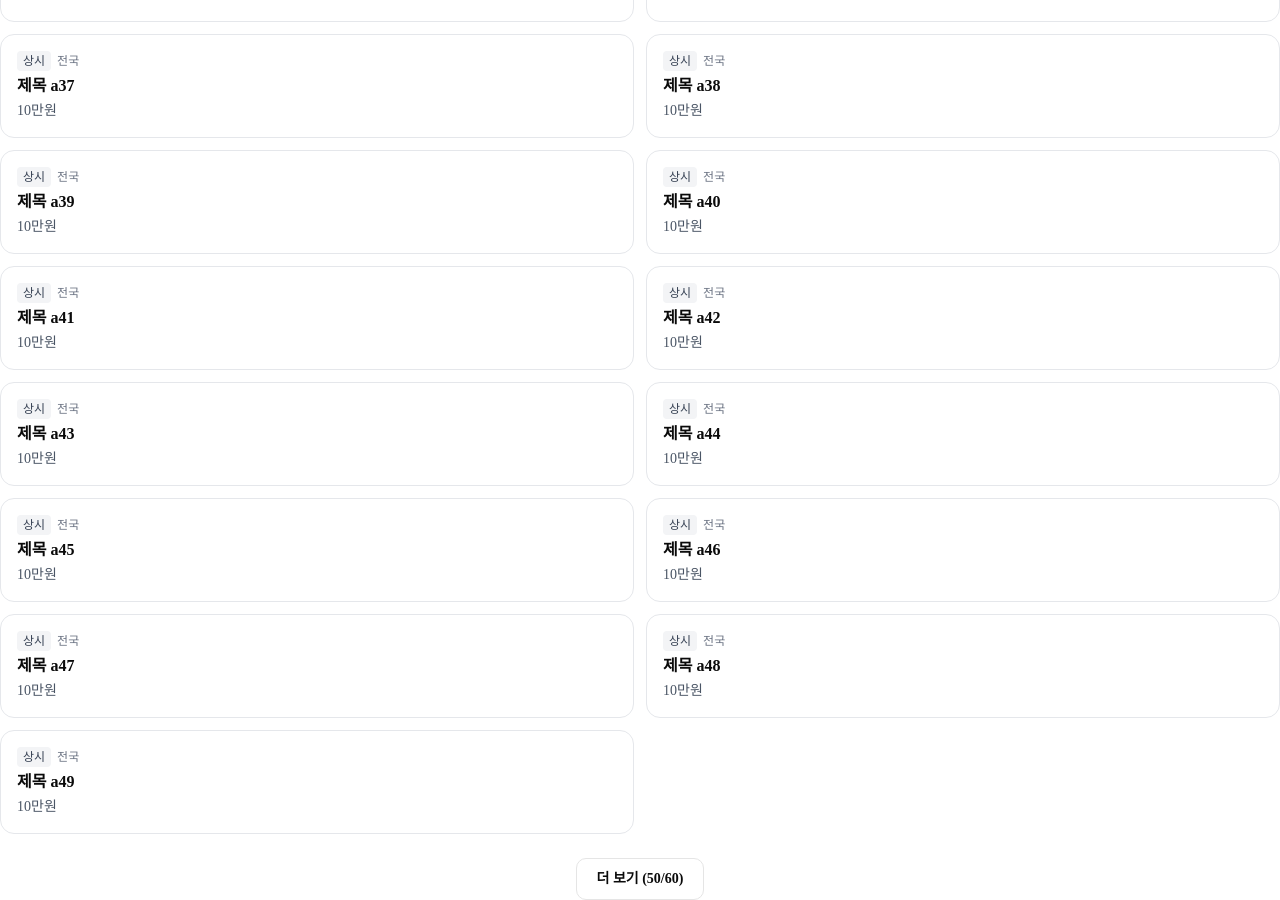
it: DiagnosisResults › 더 보기를 누르면 offset을 늘려 추가 조회
This screenshot has width=1280, height=900.
(page scrolled)
Click the button "더 보기 (50/60)" at x=640, y=879, box [576,858,704,899]
(page scrolled)
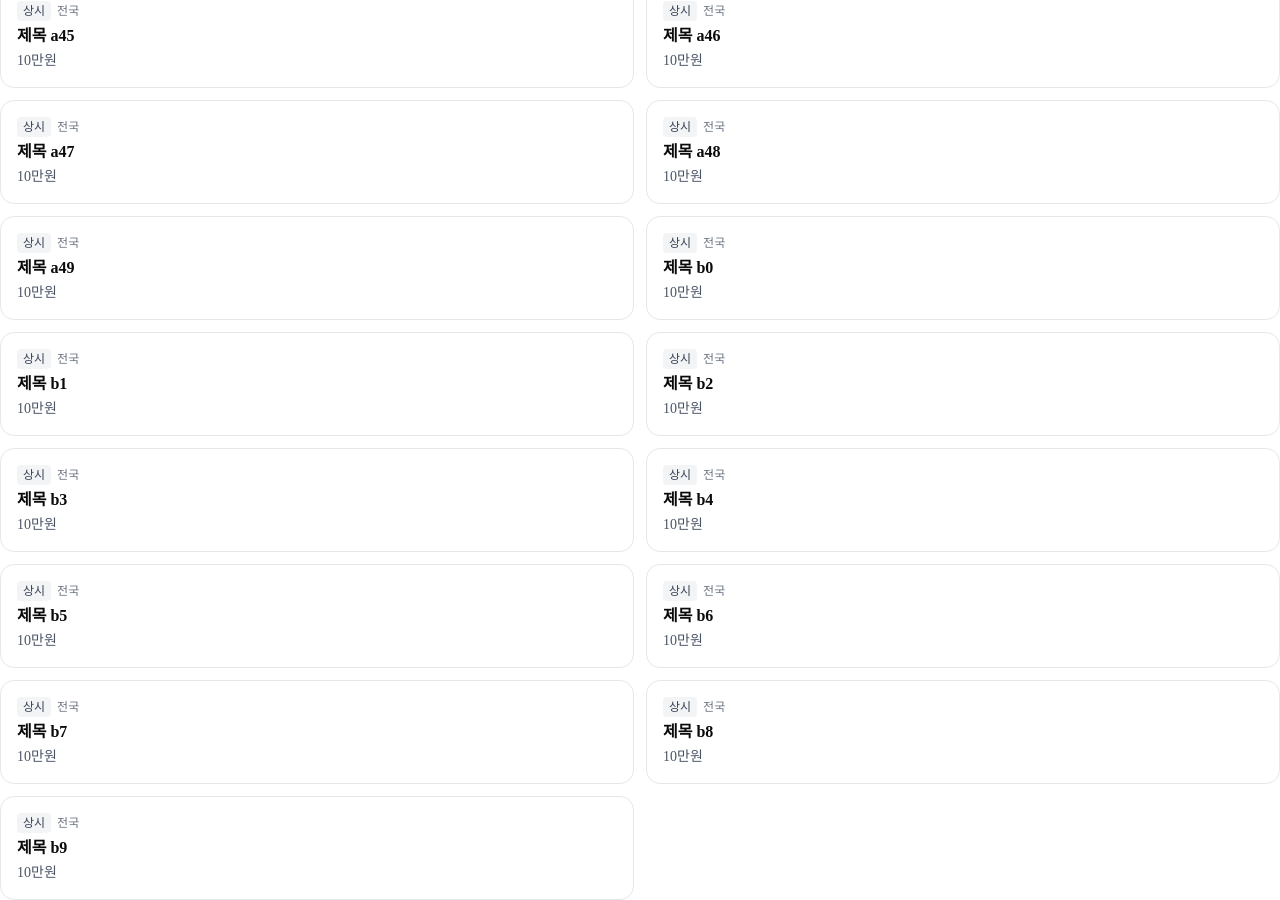
Now the link "제목 b9" is shown, box [17,839,67,856]
Now the button "더 보기" is gone
